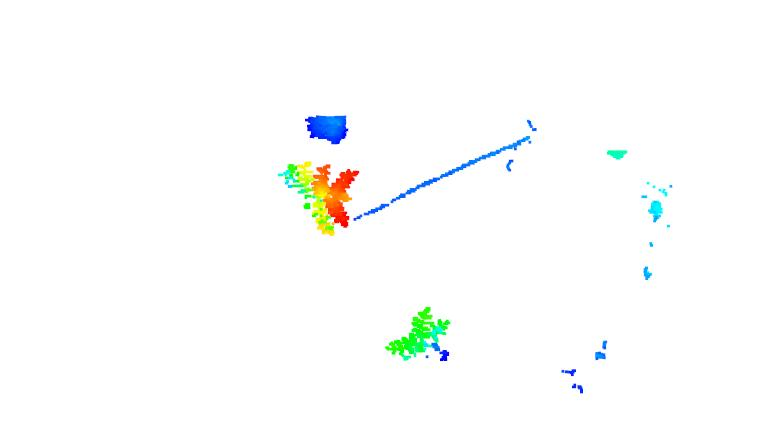chickpea: (280, 161, 356, 235), (384, 305, 456, 362)
